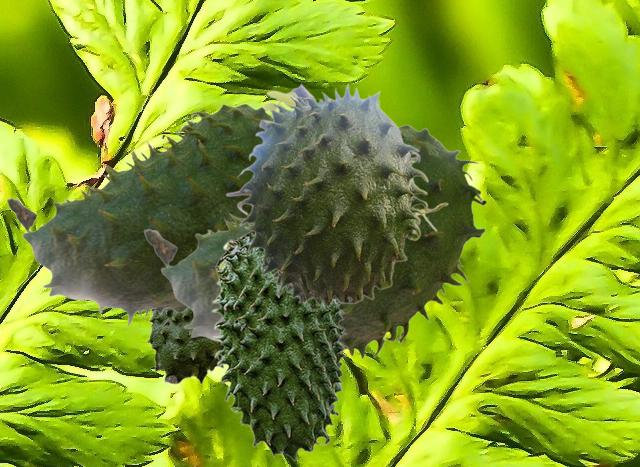guyabano: (143, 124, 486, 360), (6, 103, 271, 327), (225, 81, 448, 307), (211, 231, 348, 460), (144, 309, 224, 384)
